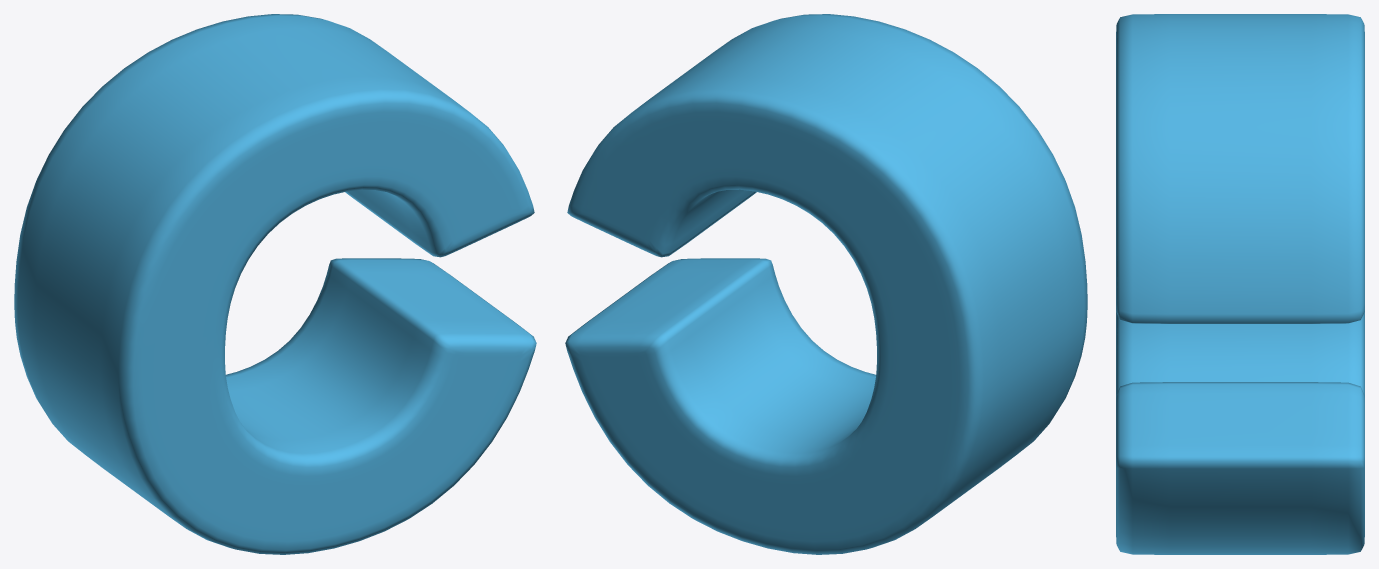
Rendered from c-DohB-QYj.glb.
3 renders of one model, left to right at view 1: azimuth 30°, elevation 25°; view 2: azimuth 150°, elevation 25°; view 3: azimuth 270°, elevation 25°, orthographic. The views are drawn at different scales.
Visible parts, largest first — view 1: c.002; view 2: c.002; view 3: c.002.
Part boxes in pixels (x1,y1,x2,y2): c.002: (14,14,536,554); c.002: (565,14,1087,554); c.002: (1116,14,1364,554).
Bounding box in the file's own units: 0.8309 × 0.8587 × 0.4.
